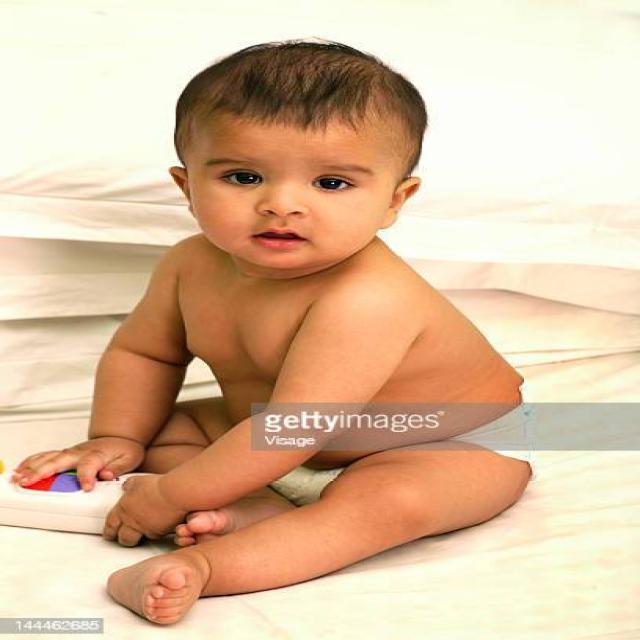non-dog: (9, 40, 535, 629)
